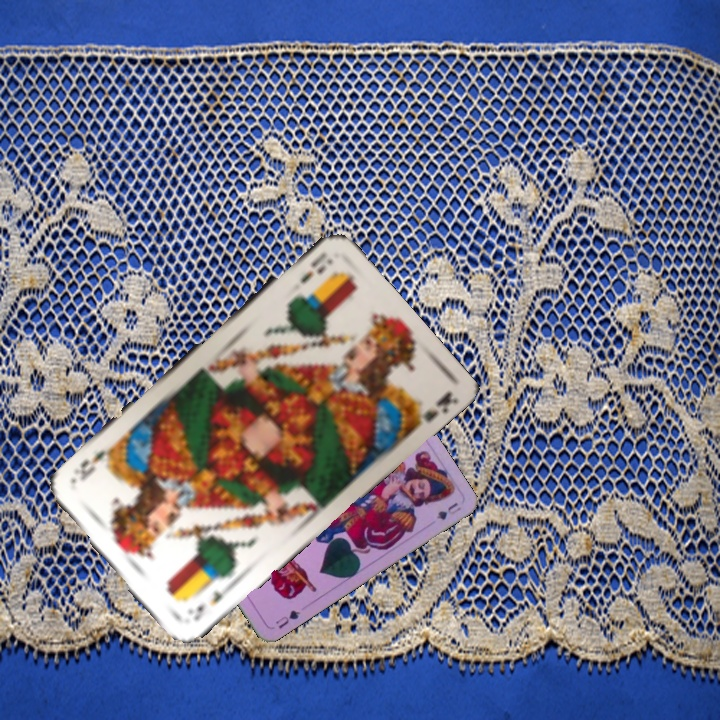EK: (183, 579, 232, 624), (295, 248, 335, 287)
GU: (271, 605, 303, 632)
